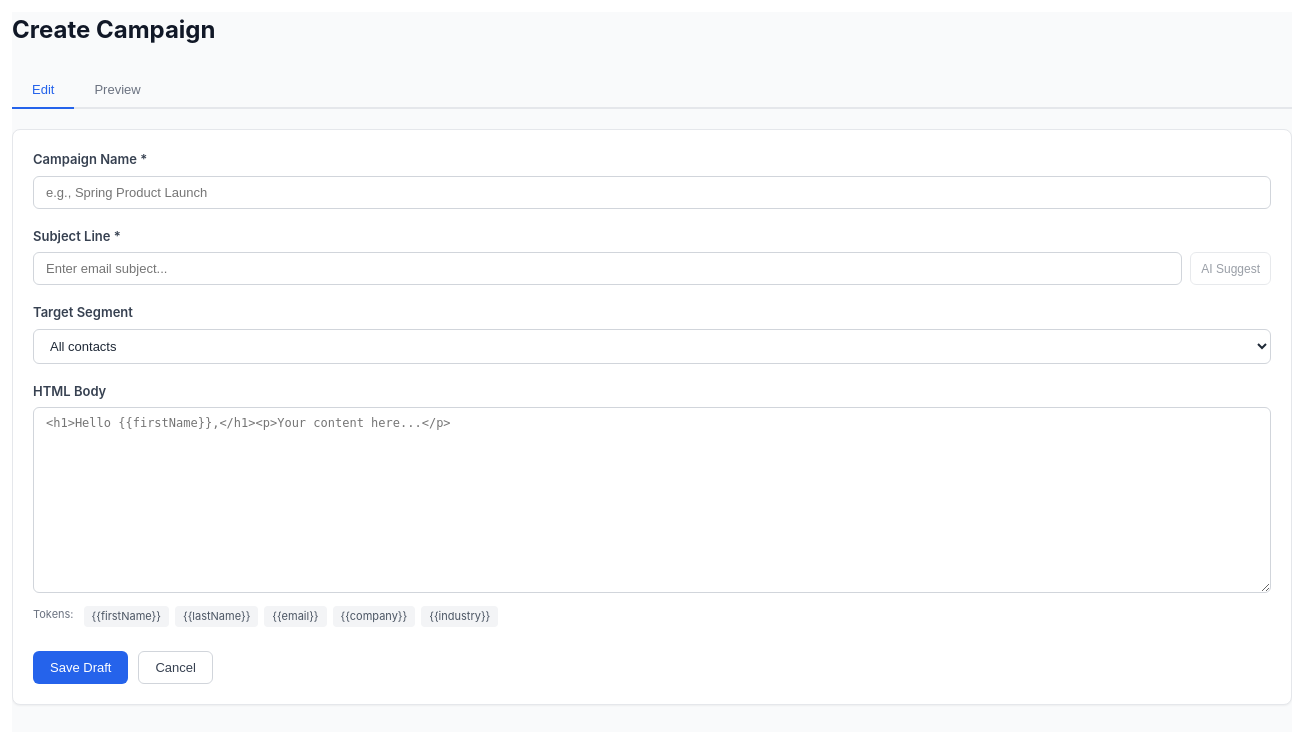
Test: CampaignEditor › validates required fields on save
Click the button "Save Draft".
click(81, 667)  # box [33,650,128,684]
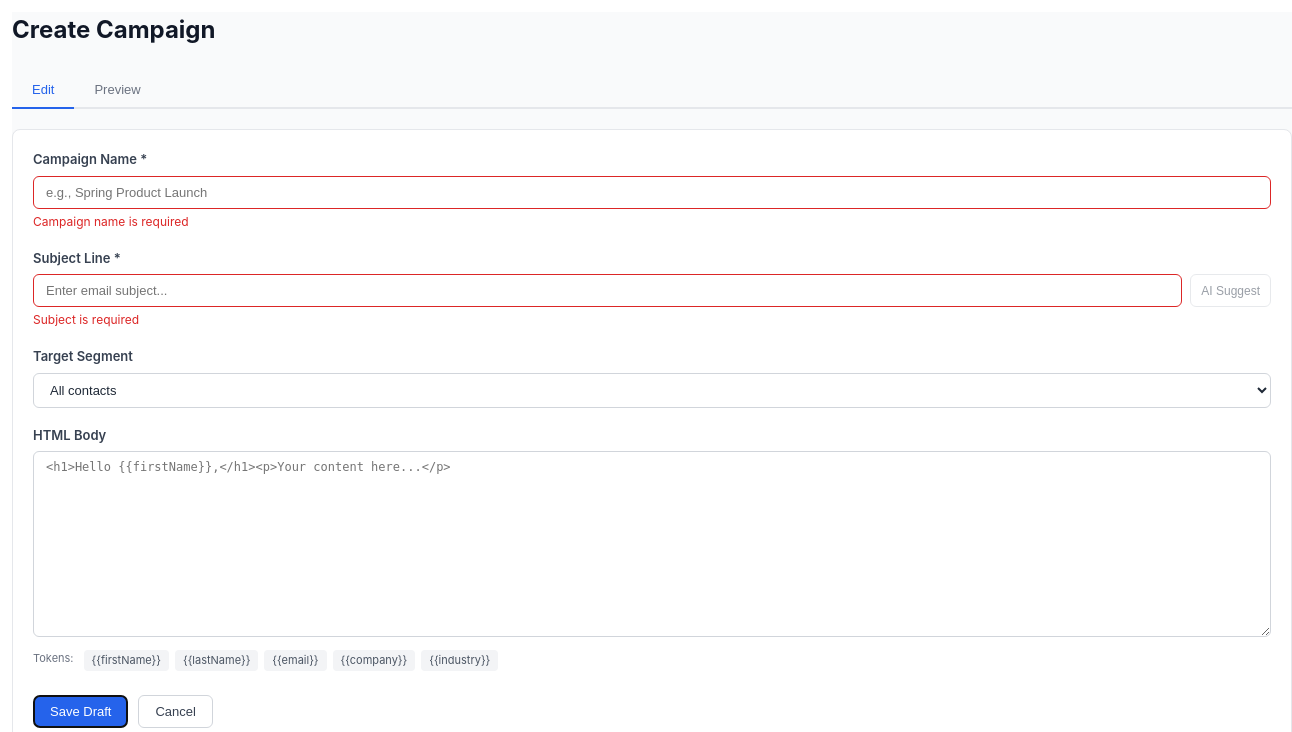
Result: the text "Campaign name is required" is shown at [33,214,189,228]
Result: the text "Subject is required" is shown at [33,312,139,327]
